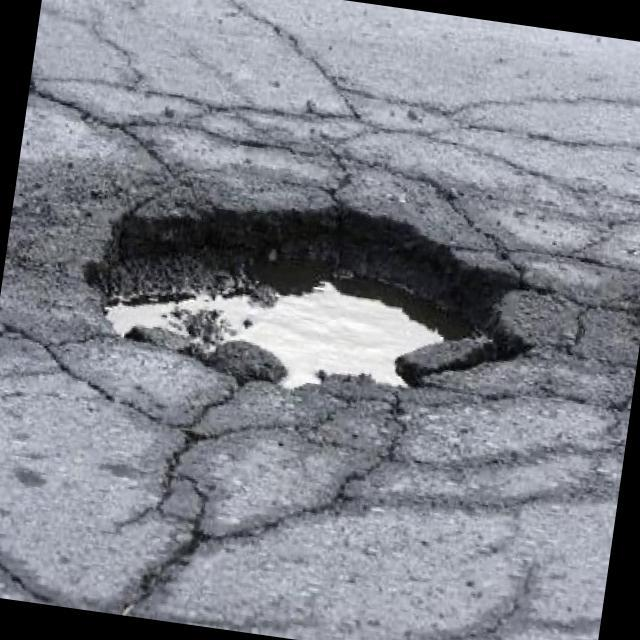Pothole: (85, 208, 517, 387)
